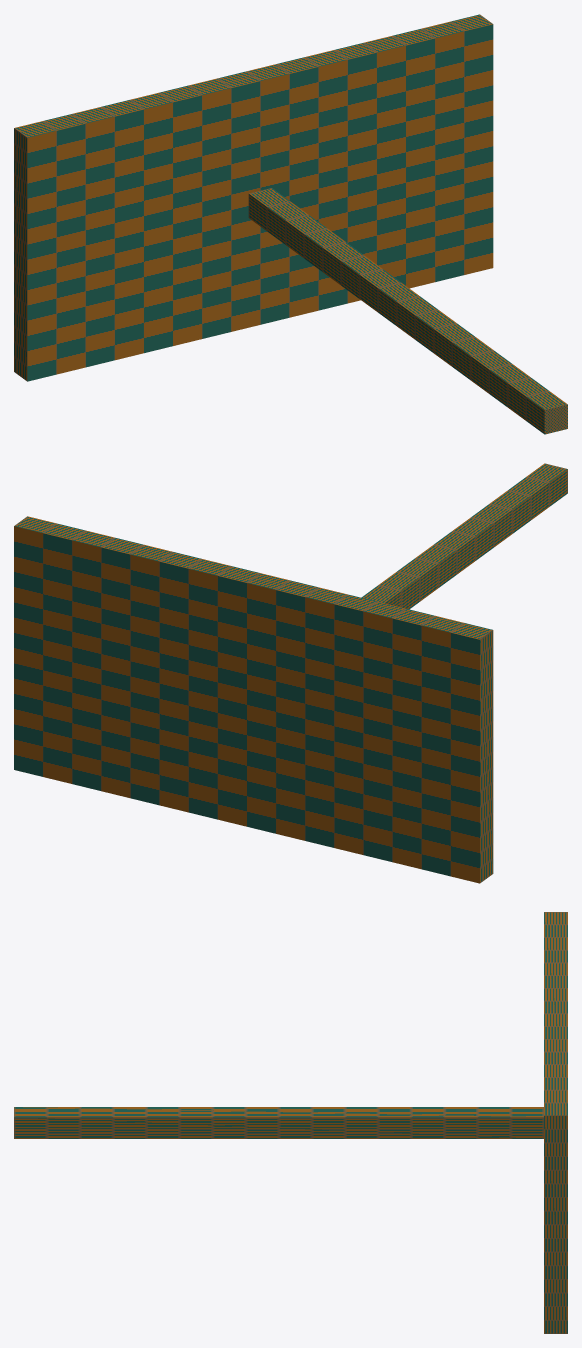
The model's file is market_stall.glb.
3 renders of one model, top to bottom at view 1: azimuth 30°, elevation 25°; view 2: azimuth 150°, elevation 25°; view 3: azimuth 270°, elevation 25°, orthographic. The views are drawn at different scales.
Parts seen in each view (by area): view 1: SM_MS_LOD0, SM_MS_Top_LOD0; view 2: SM_MS_LOD0, SM_MS_Top_LOD0; view 3: SM_MS_Top_LOD0, SM_MS_LOD0.
Part boxes in pixels (bbox=[...]): SM_MS_LOD0: bbox=[14, 14, 493, 381]; SM_MS_Top_LOD0: bbox=[248, 188, 567, 434]; SM_MS_LOD0: bbox=[14, 516, 493, 883]; SM_MS_Top_LOD0: bbox=[361, 463, 567, 609]; SM_MS_Top_LOD0: bbox=[14, 1107, 543, 1138]; SM_MS_LOD0: bbox=[544, 912, 567, 1333].
Size of what is drawn, in the model's own units: 2 by 1 by 2.3.
1 material, 1 textured.
